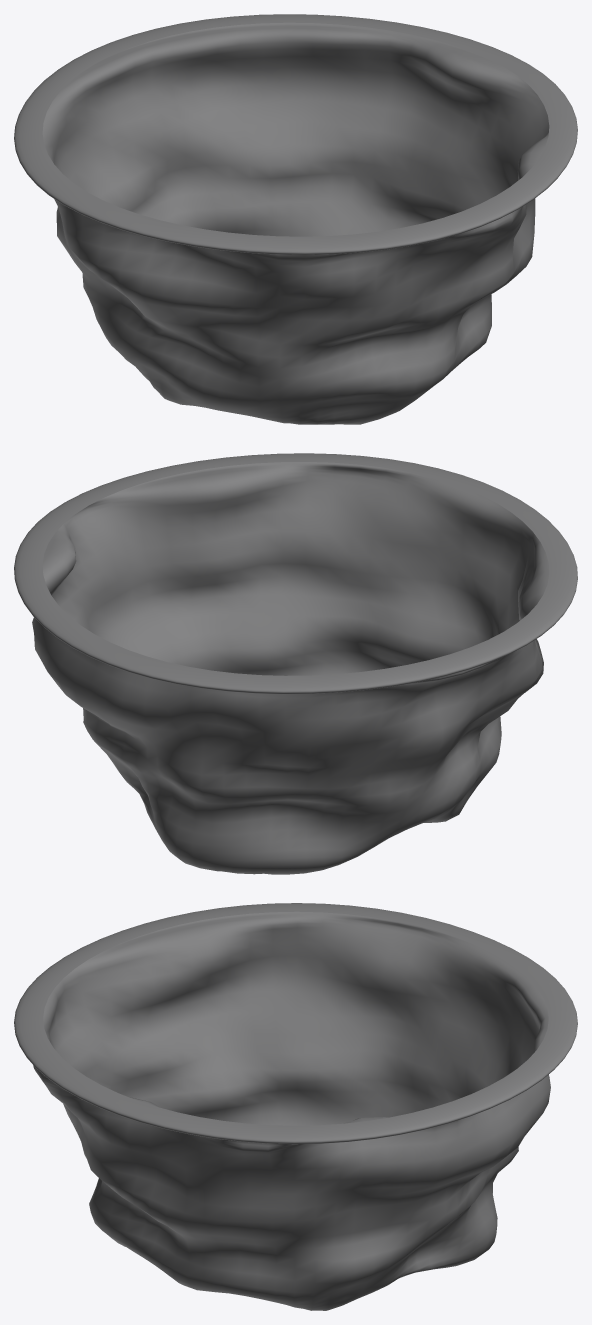
Rendered from plastic_cup2.fbx.
The picture shows the model from 3 angles, top to bottom: view 1: azimuth 30°, elevation 25°; view 2: azimuth 150°, elevation 25°; view 3: azimuth 270°, elevation 25°; orthographic projection.
Visible parts, largest first — view 1: SM_plastic_cup_crushed; view 2: SM_plastic_cup_crushed; view 3: SM_plastic_cup_crushed.
Part boxes in pixels (bbox=[...]): SM_plastic_cup_crushed: bbox=[14, 14, 577, 424]; SM_plastic_cup_crushed: bbox=[14, 453, 577, 874]; SM_plastic_cup_crushed: bbox=[14, 903, 577, 1310].
Size of the model in its own units: 41.09 by 19.4 by 41.05.
Materials: 1 (1 with a texture image).
